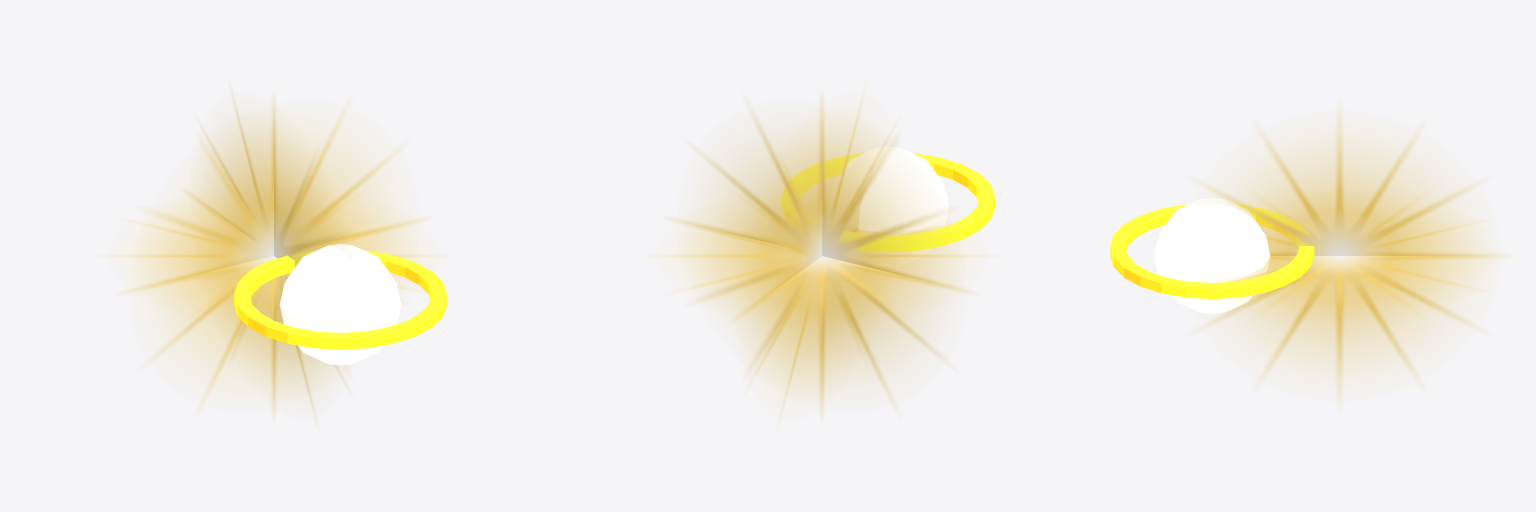
Rendered from w_god.glb.
3 views of the same model, side by side, from view 1: azimuth 30°, elevation 25°; view 2: azimuth 150°, elevation 25°; view 3: azimuth 270°, elevation 25° (orthographic). The views are drawn at different scales.
Parts seen in each view (by area): view 1: w_sun_rays, w_sun_core, w_god_gold; view 2: w_sun_rays, w_sun_core, w_god_gold; view 3: w_sun_rays, w_sun_core, w_god_gold.
Boxes of the visible parts, box(x1,y1,x2,y2) form: w_sun_rays: box(111, 97, 436, 414); w_sun_core: box(279, 244, 401, 365); w_god_gold: box(234, 250, 446, 349); w_sun_rays: box(659, 97, 984, 414); w_sun_core: box(828, 146, 949, 267); w_god_gold: box(782, 153, 994, 252); w_sun_rays: box(1202, 113, 1506, 398); w_sun_core: box(1154, 197, 1270, 314); w_god_gold: box(1110, 204, 1314, 298).
Size of the model in its own units: 1 by 1 by 1.13.
3 materials, 1 textured.
